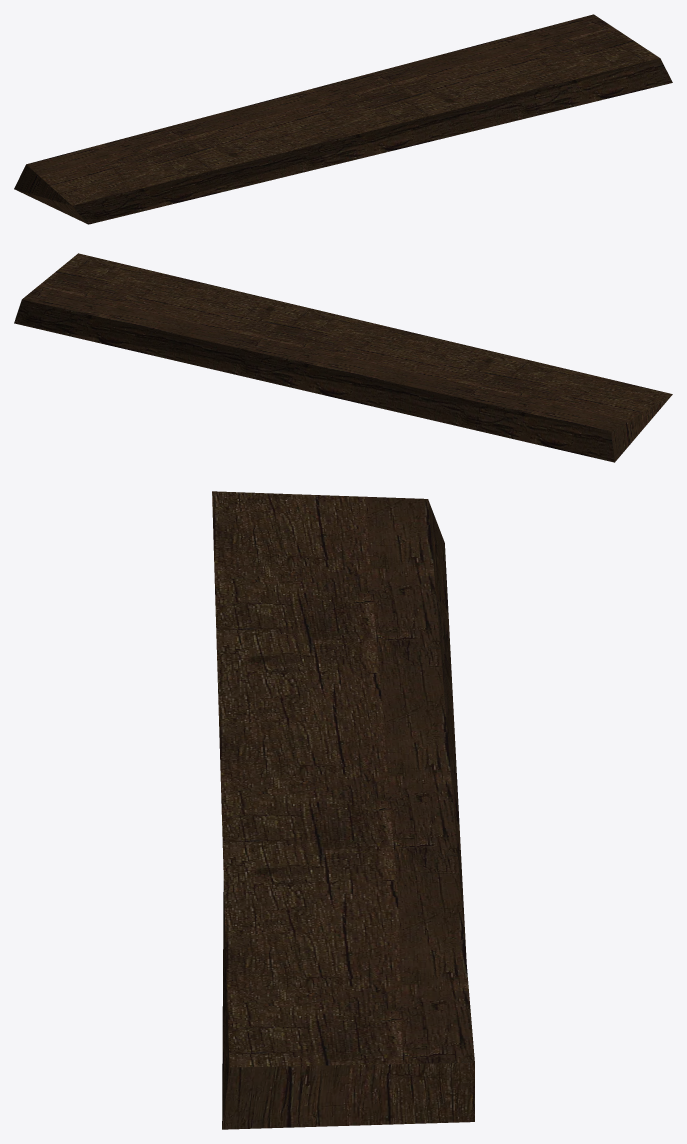
File: DESKA3M.glb
3 renders of one model, top to bottom at view 1: azimuth 30°, elevation 25°; view 2: azimuth 150°, elevation 25°; view 3: azimuth 270°, elevation 25°, orthographic. The views are drawn at different scales.
Visible parts, largest first — view 1: DESKA3M; view 2: DESKA3M; view 3: DESKA3M.
Boxes of the visible parts, x1,y1,x2,y2 form: DESKA3M: (14,14,672,224); DESKA3M: (14,253,672,462); DESKA3M: (212,491,474,1129).
Size of the model in its own units: 1.83 by 0.0751 by 0.346.
1 material, 1 textured.
